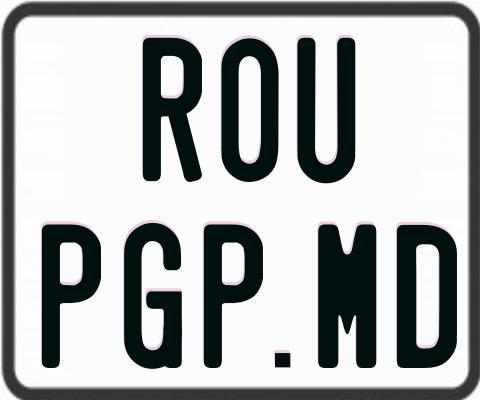0: (218, 36, 278, 182)
D: (397, 225, 461, 371)
G: (123, 222, 184, 368)
M: (318, 224, 379, 374)
P: (201, 222, 266, 370), (39, 222, 98, 372)
R: (140, 38, 204, 186)
U: (294, 35, 356, 183)
